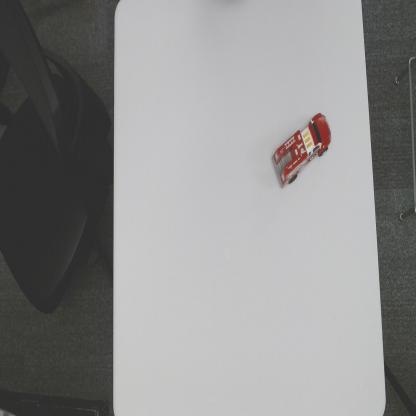Firetruck: (271, 111, 332, 188)
